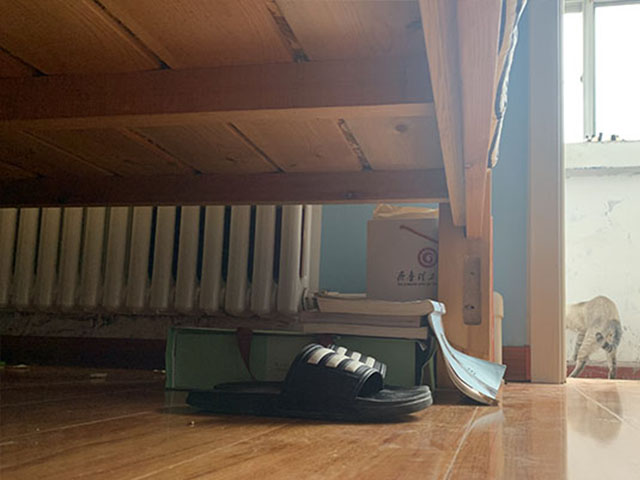book: (424, 296, 509, 406)
slippers: (184, 340, 436, 420)
